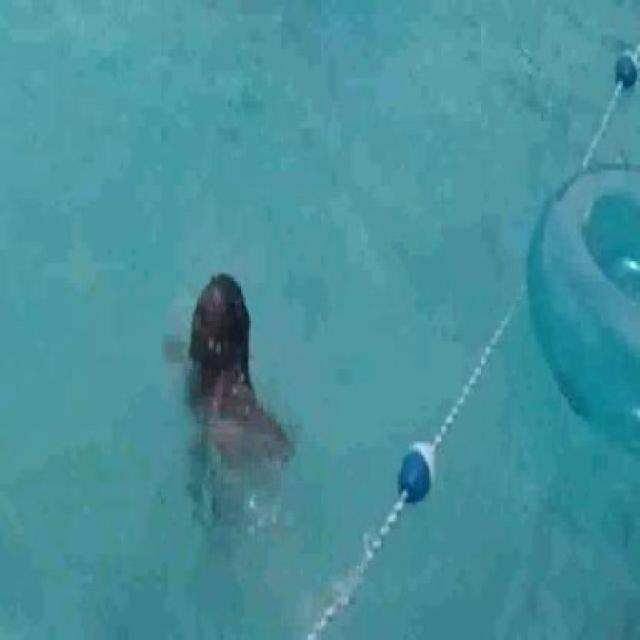drowning: (159, 240, 313, 592)
